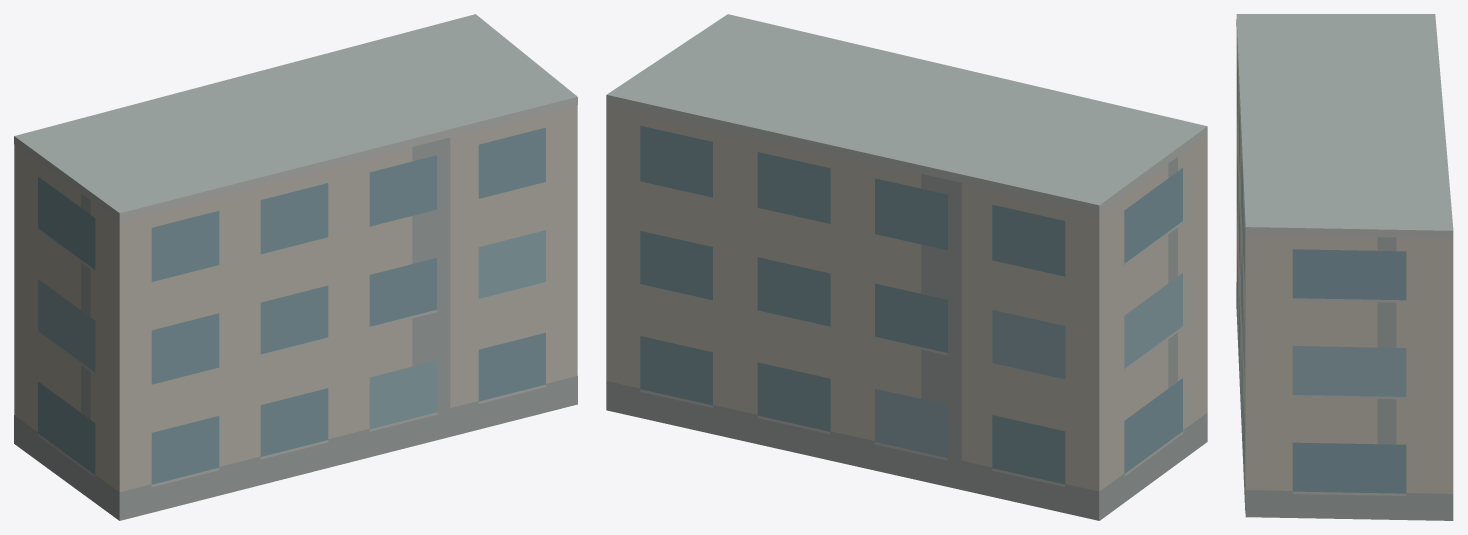
Rendered from survey-upis-32503037.glb.
3 views of the same model, side by side, from view 1: azimuth 30°, elevation 25°; view 2: azimuth 150°, elevation 25°; view 3: azimuth 270°, elevation 25° (orthographic). The views are drawn at different scales.
Parts seen in each view (by area): view 1: survey-upis-32503037.tmp; view 2: survey-upis-32503037.tmp; view 3: survey-upis-32503037.tmp.
Boxes of the visible parts, bbox=[...] form: survey-upis-32503037.tmp: bbox=[14, 14, 577, 520]; survey-upis-32503037.tmp: bbox=[606, 14, 1207, 520]; survey-upis-32503037.tmp: bbox=[1236, 14, 1453, 520].
Size of the model in its own units: 14.68 by 9.15 by 6.22.
